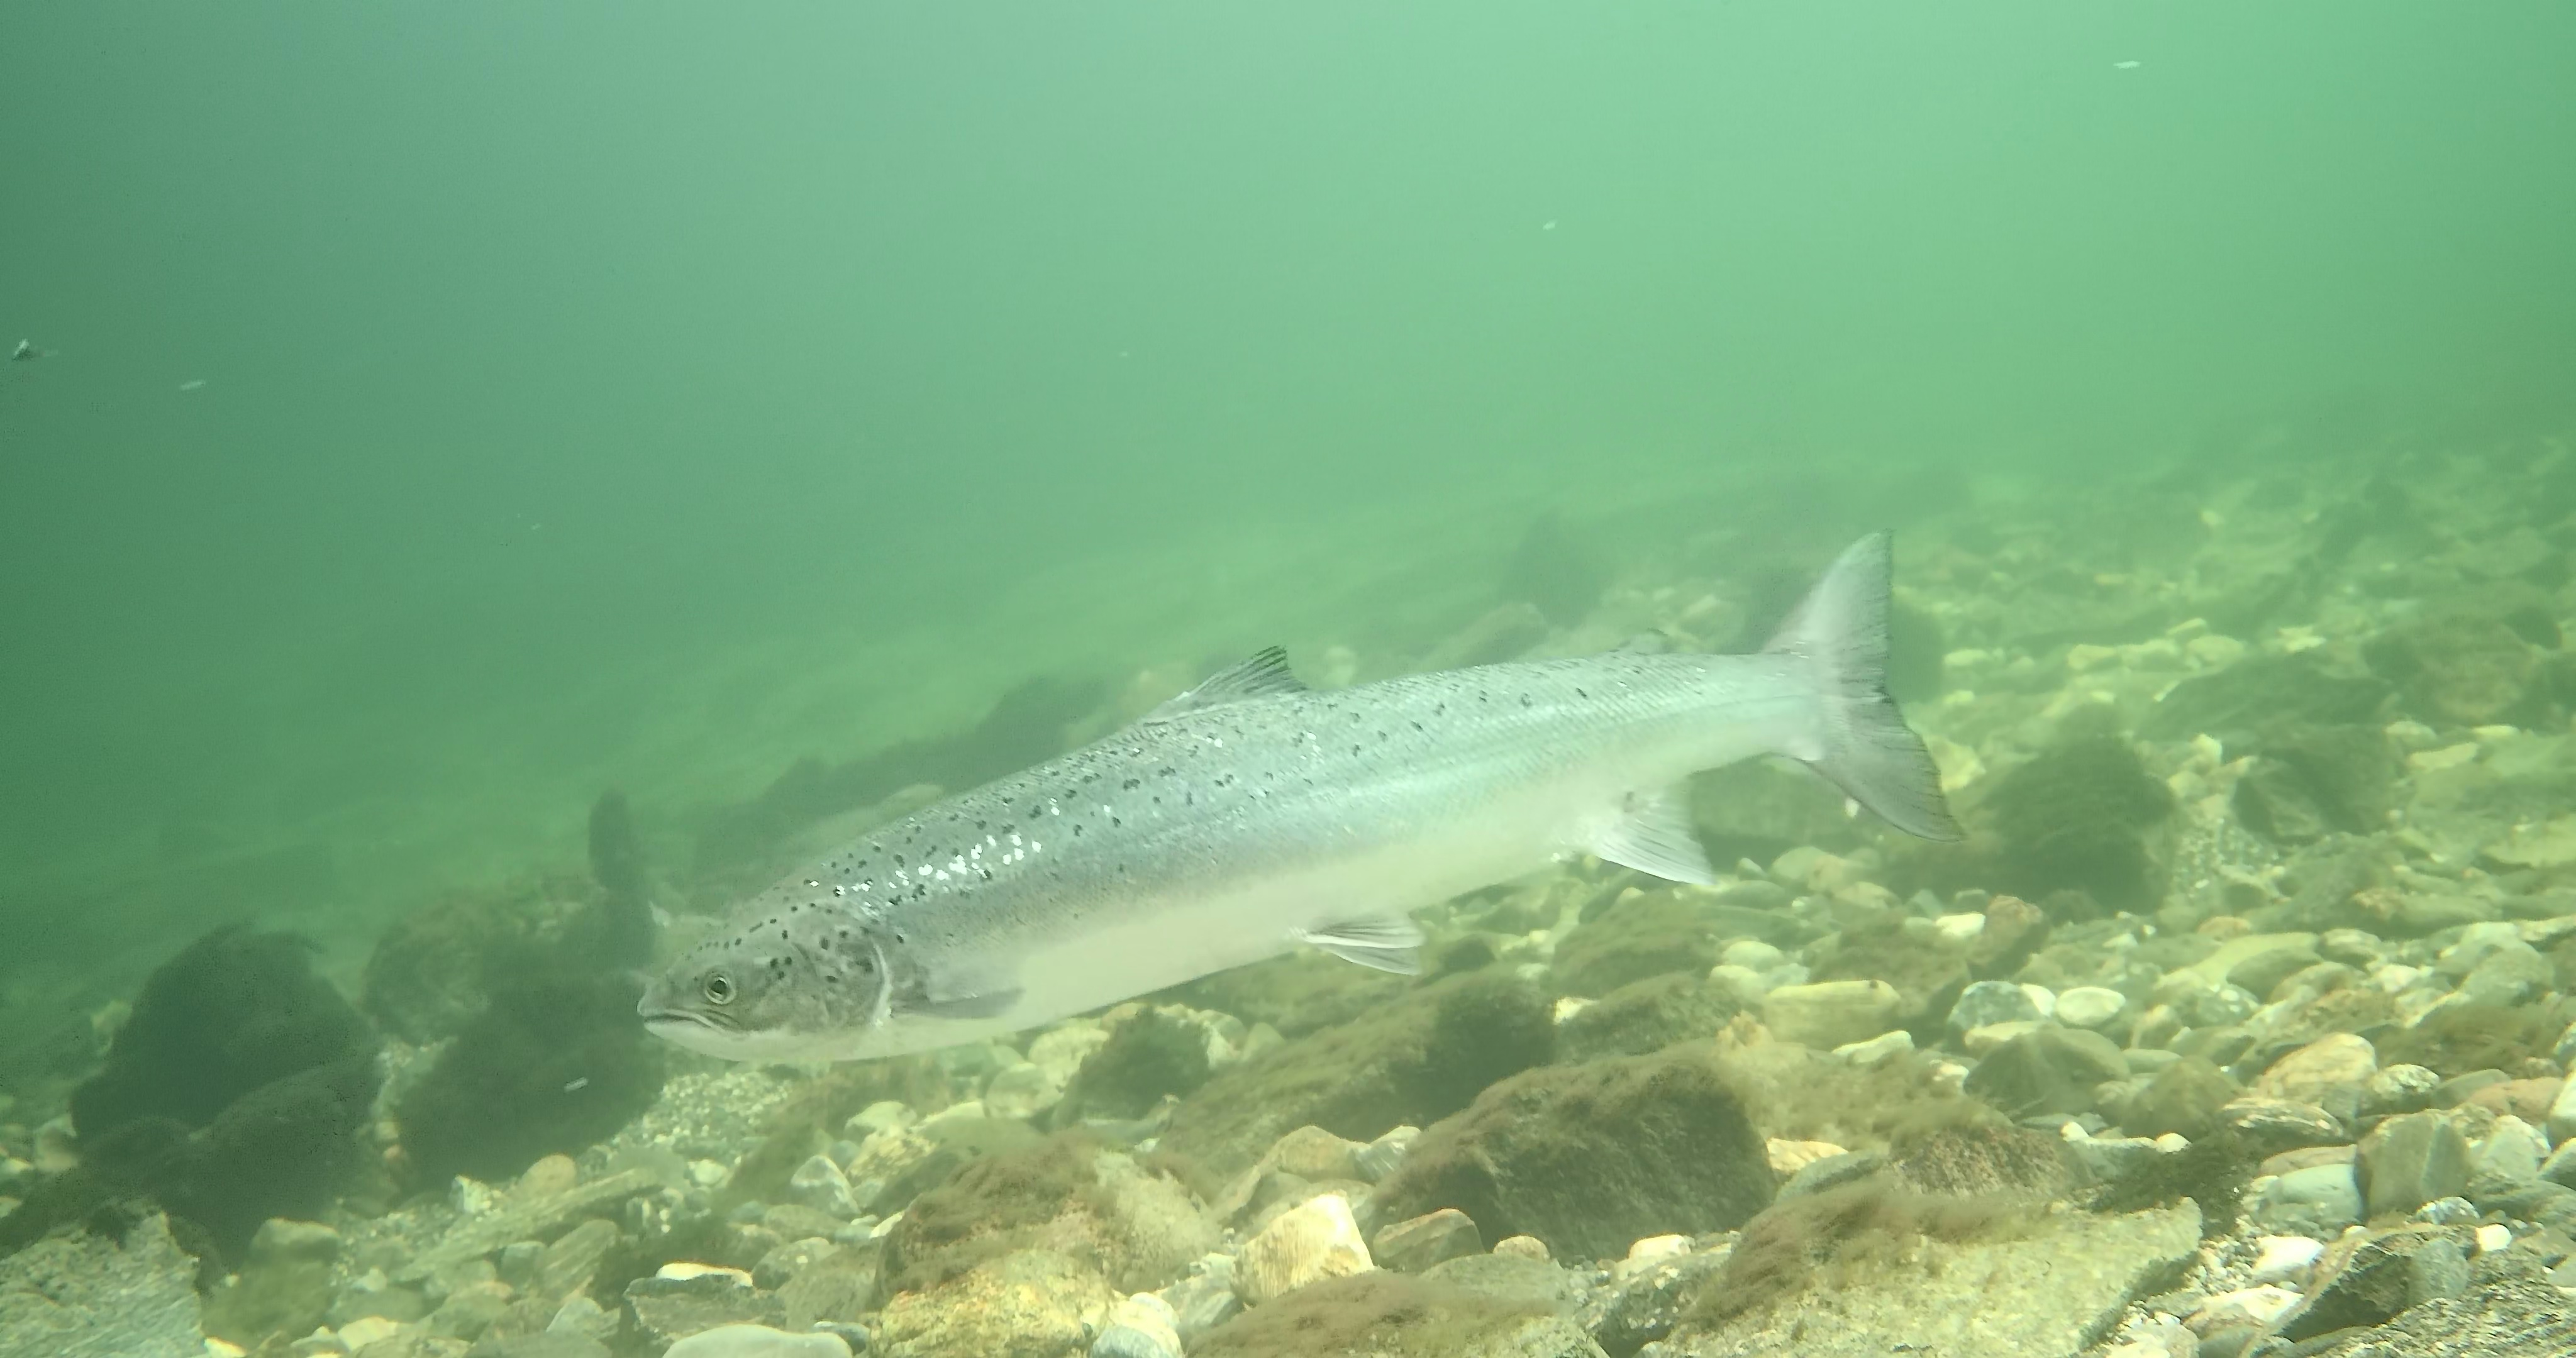salmon: (624, 520, 1961, 1065)
